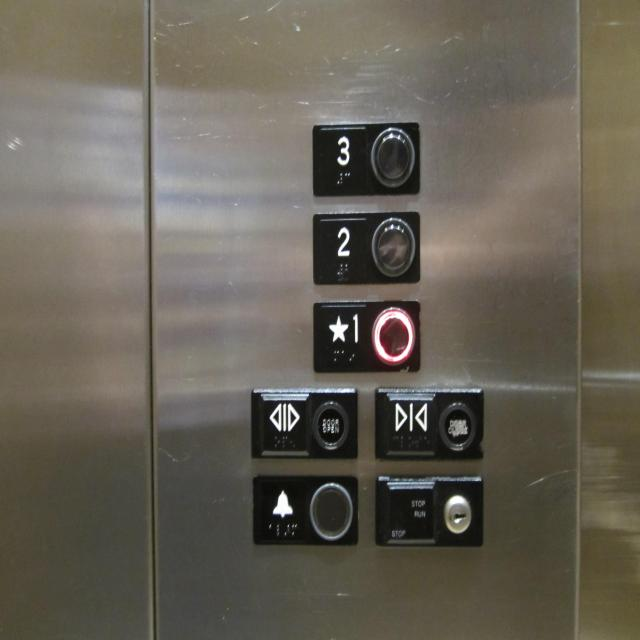2: (310, 205, 422, 290)
3: (308, 118, 426, 200)
alarm: (248, 469, 362, 546)
bt_keyhole: (372, 472, 488, 548)
close: (372, 385, 488, 463)
open: (248, 383, 360, 463)
s1: (310, 297, 422, 375)
